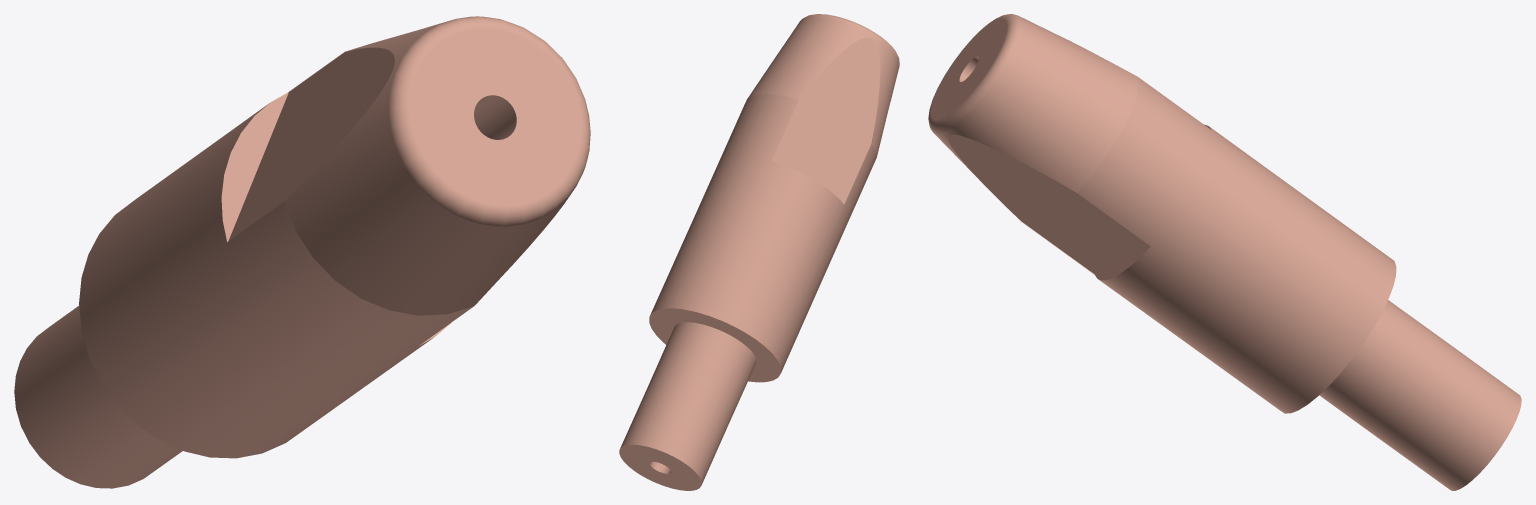
Rendered from Body27.dae.
The picture shows the model from 3 angles, left to right: view 1: azimuth 30°, elevation 25°; view 2: azimuth 150°, elevation 25°; view 3: azimuth 270°, elevation 25°; orthographic projection. The views are drawn at different scales.
Visible parts, largest first — view 1: Body27; view 2: Body27; view 3: Body27.
Boxes of the visible parts, box(x1,y1,x2,y2) form: Body27: box(14, 16, 590, 488); Body27: box(619, 14, 899, 490); Body27: box(928, 14, 1521, 490).
Bounding box in the file's own units: 0.8121 × 2.51 × 2.17.
